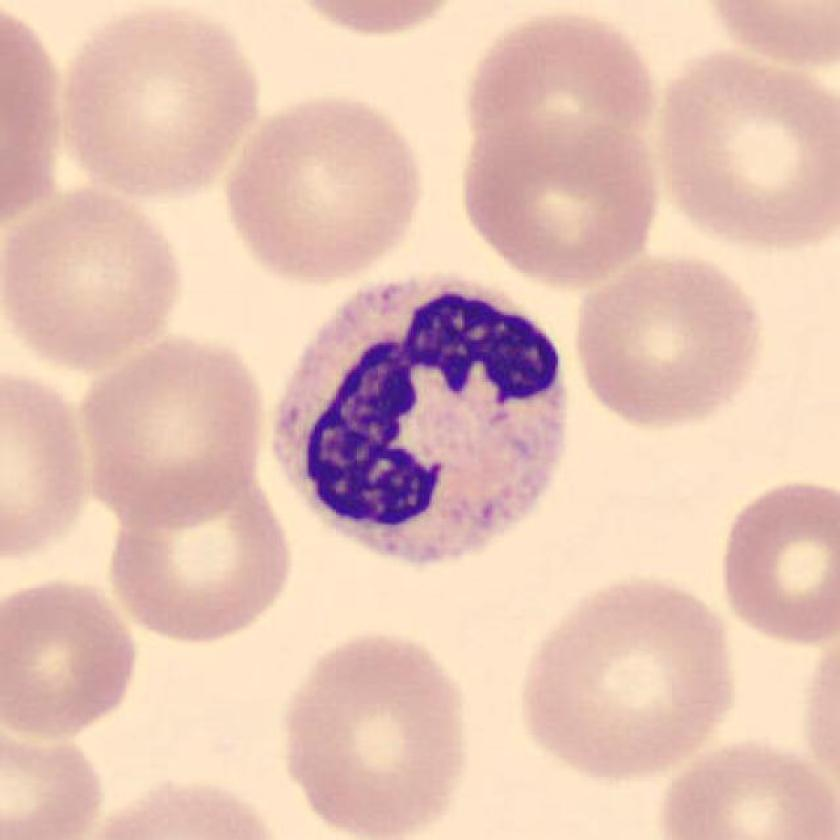neutrophil: (273, 268, 560, 570)
